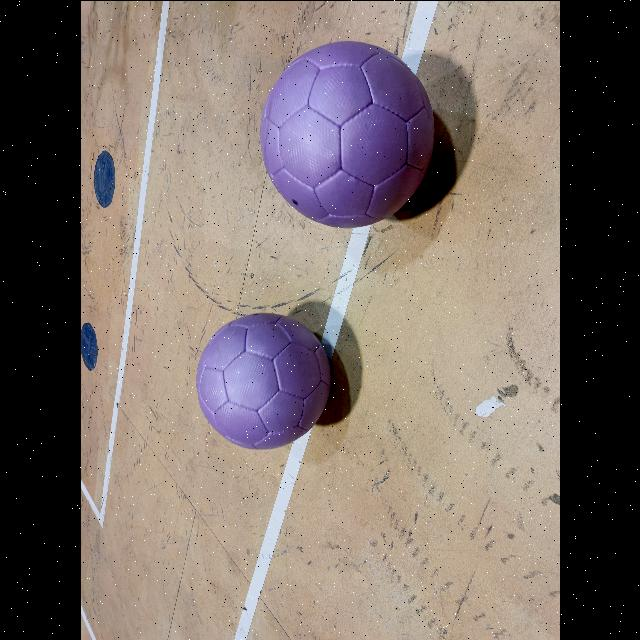P: (260, 41, 434, 227), (195, 313, 329, 449)
